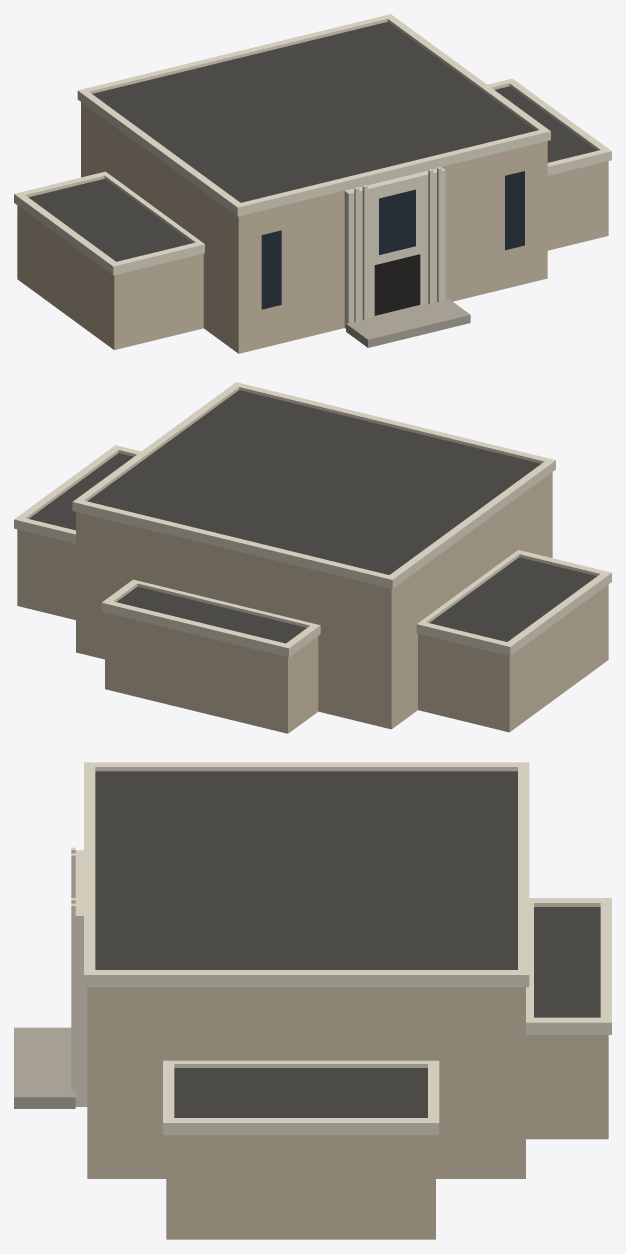
The model's file is museum-of-fine-arts-1937.glb.
3 views of the same model, one above another, from view 1: azimuth 30°, elevation 25°; view 2: azimuth 150°, elevation 25°; view 3: azimuth 270°, elevation 25° (orthographic). The views are drawn at different scales.
Parts seen in each view (by area): view 1: museum_wall, museum_roof, museum_trim, museum_glass, museum_stone, museum_shadow; view 2: museum_wall, museum_roof, museum_trim; view 3: museum_roof, museum_wall, museum_trim, museum_stone.
Boxes of the visible parts, box(x1,y1,x2,y2) form: museum_wall: box(17, 102, 608, 353); museum_roof: box(28, 22, 597, 261); museum_trim: box(14, 14, 611, 328); museum_glass: box(261, 171, 524, 309); museum_stone: box(346, 298, 470, 347); museum_shadow: box(374, 254, 420, 315); museum_wall: box(17, 472, 608, 733); museum_roof: box(29, 390, 596, 643); museum_trim: box(14, 382, 611, 657); museum_roof: box(95, 771, 600, 1117); museum_wall: box(87, 987, 608, 1239); museum_trim: box(71, 762, 611, 1135); museum_stone: box(14, 1027, 75, 1108).
Size of the model in its own units: 34.53 by 9.9 by 26.11.
